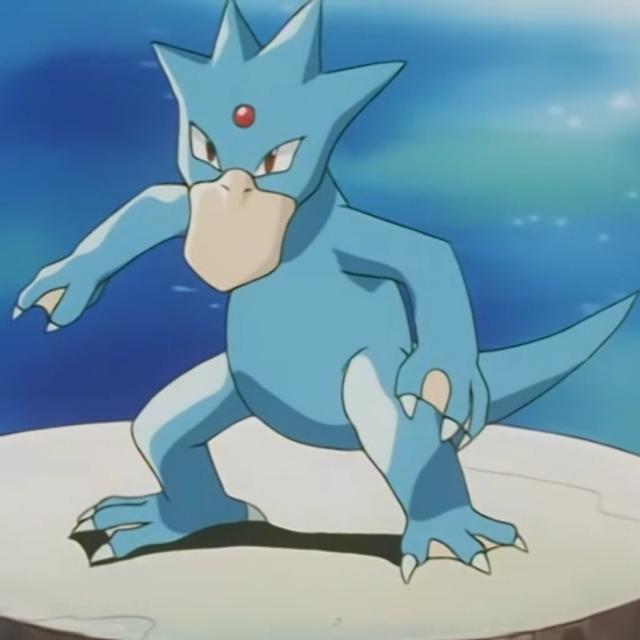Golduck: (123, 11, 499, 579)
